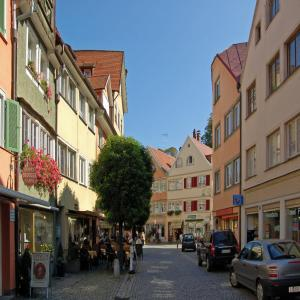Vehicle-registration-plate: (290, 288, 300, 294)
